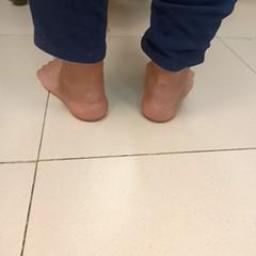Back View -Both Feet-: (20, 26, 219, 138)
